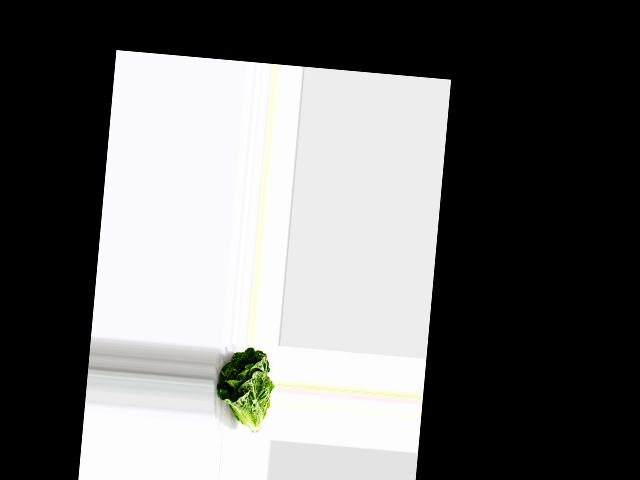lettuce: (212, 345, 278, 432)
